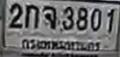0: (90, 8, 102, 31)
1: (106, 9, 114, 33)
2: (8, 3, 23, 29)
3: (62, 6, 74, 29)
8: (76, 6, 88, 31)
A01: (24, 3, 39, 29)
A08: (42, 5, 57, 30)
BKK: (21, 36, 101, 54)
